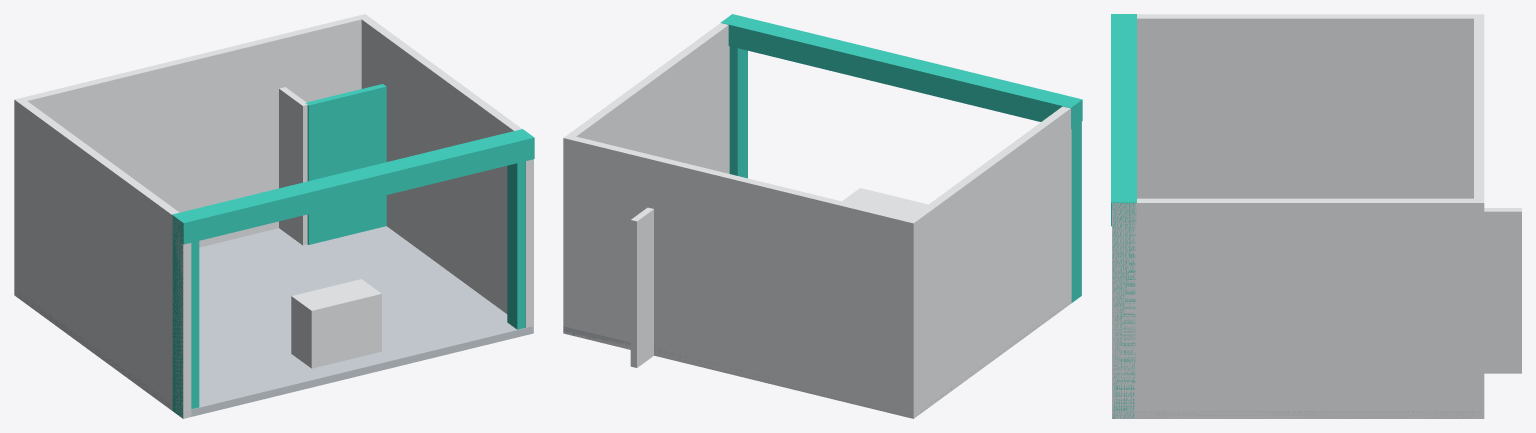
3 renders of one model, left to right at view 1: azimuth 30°, elevation 25°; view 2: azimuth 150°, elevation 25°; view 3: azimuth 270°, elevation 25°, orthographic. The views are drawn at different scales.
Visible parts, largest first — view 1: Exhibition Booth Concept; view 2: Exhibition Booth Concept; view 3: Exhibition Booth Concept.
Boxes of the visible parts, x1=… form: Exhibition Booth Concept: x1=14, y1=14, x2=534, y2=418; Exhibition Booth Concept: x1=563, y1=14, x2=1082, y2=418; Exhibition Booth Concept: x1=1111, y1=14, x2=1521, y2=418.
Size of the model in its own units: 6 by 3.2 by 5.52.
